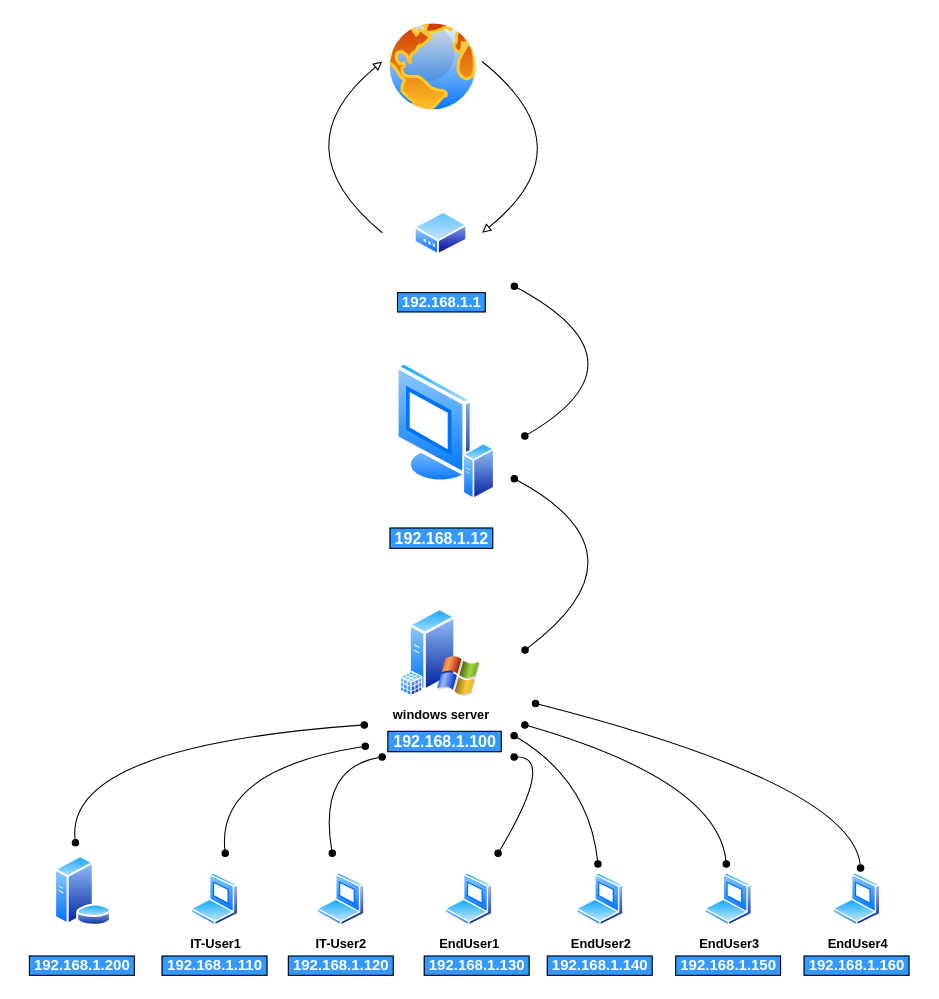
The diagram is 939 pixels wide and 999 high, and some of its shapes have lost their labels. Here are the shapes that lost their labels. From the top down, the centre of each, then its label:
point 432,66: internet
point 440,233: home network
point 434,422: host (workstation)
point 83,890: file server
